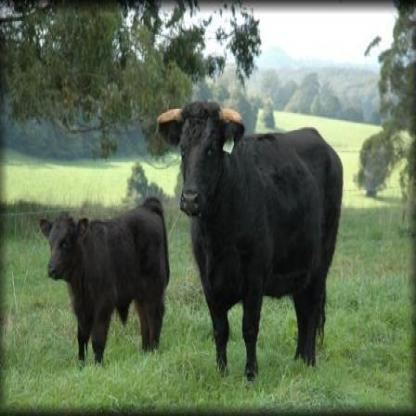cow: (158, 106, 343, 377), (39, 203, 165, 367)
